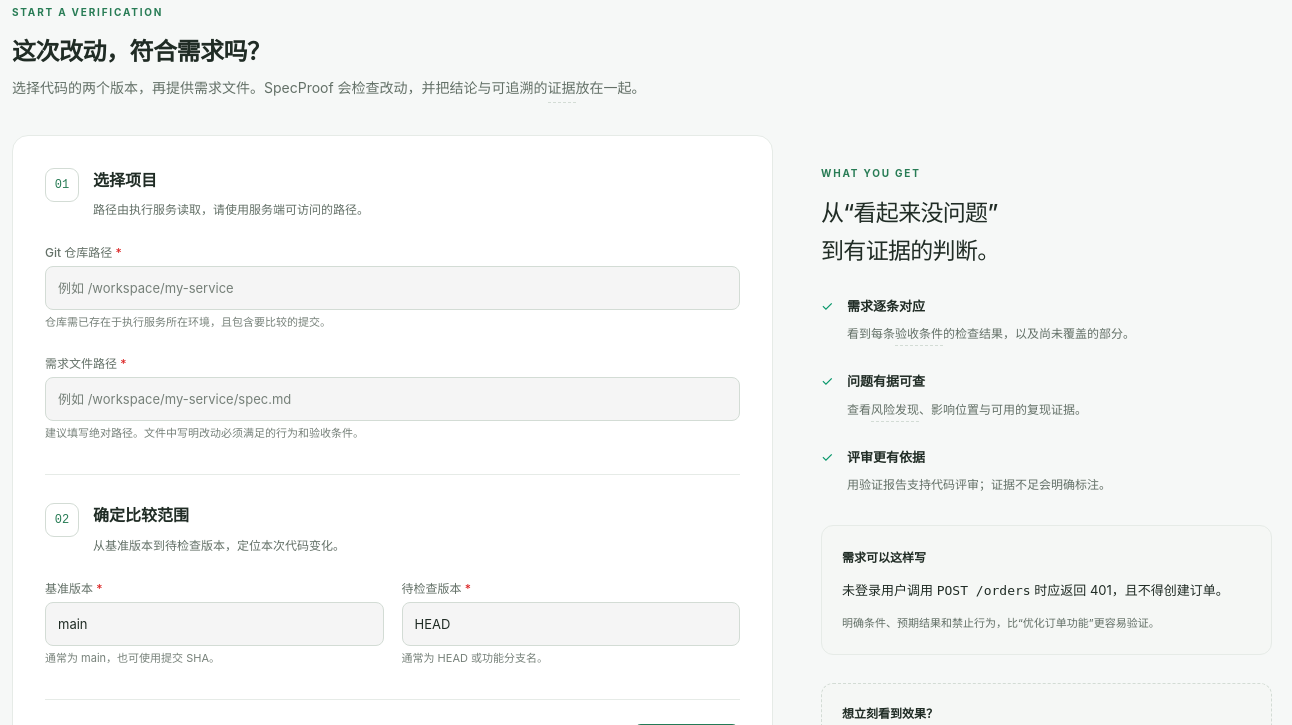
Test: new verification › translates a light-mode 503 into actionable Chinese guidance
Type "  /workspace/orders  " into the field labelled "Git 仓库路径 *".
click(392, 288); type("  /workspace/orders  ")  # box [45, 266, 740, 310]
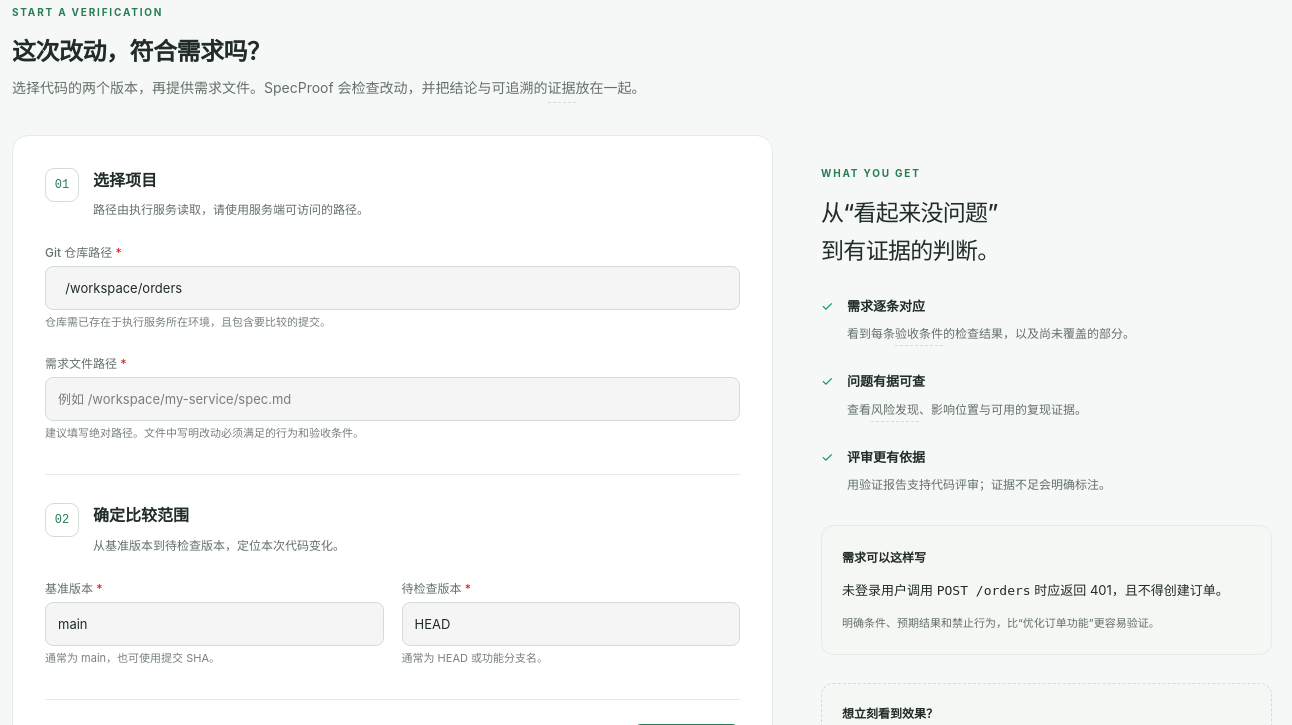
Type " /workspace/orders/spec.md " into the field labelled "需求文件路径 *".
click(392, 399); type(" /workspace/orders/spec.md ")  # box [45, 377, 740, 421]
(page scrolled)
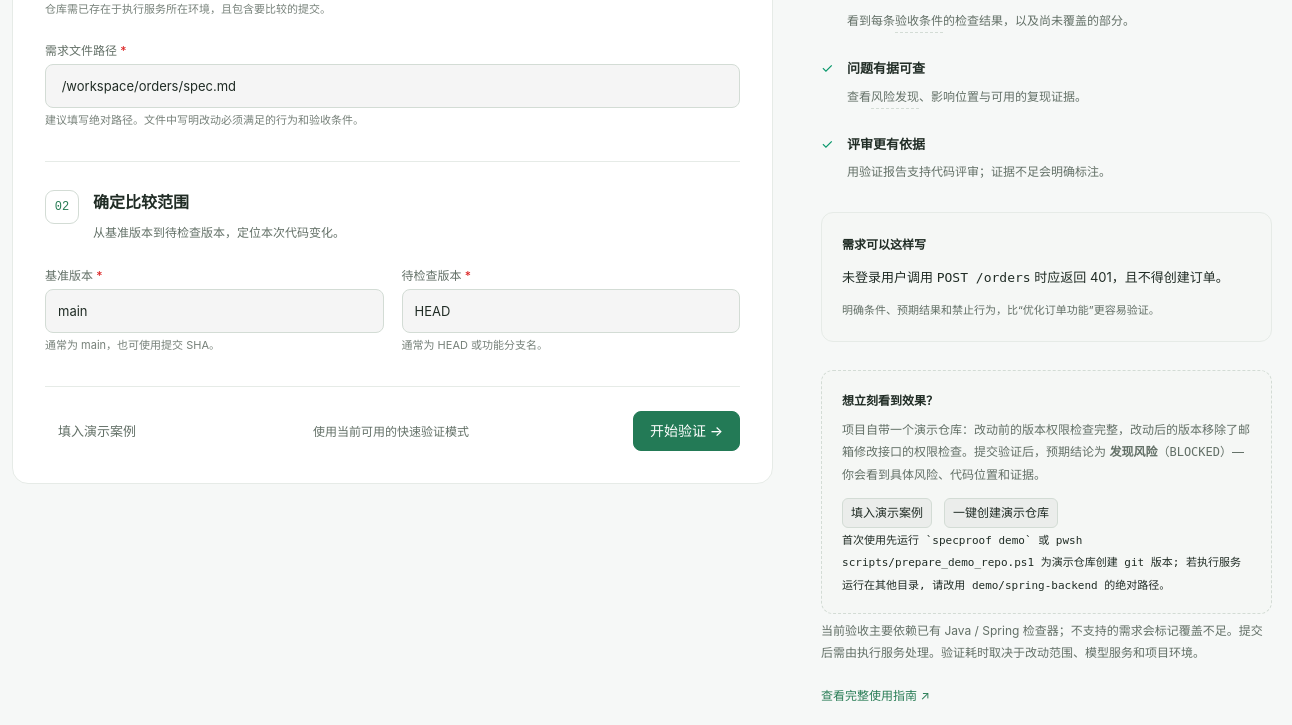
Click the button "开始验证 →".
click(686, 431)  # box [633, 411, 740, 451]
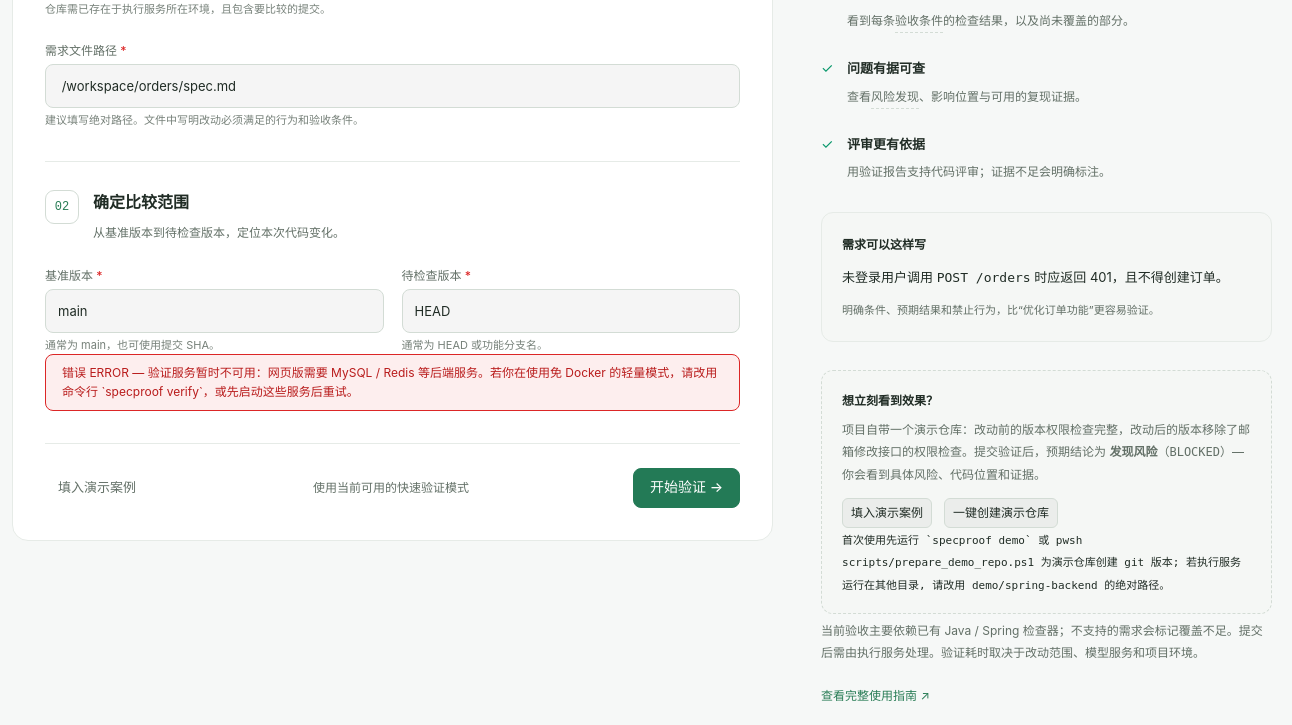
Result: the text "免 Docker 的轻量模式" is shown at [62, 365, 717, 400]
